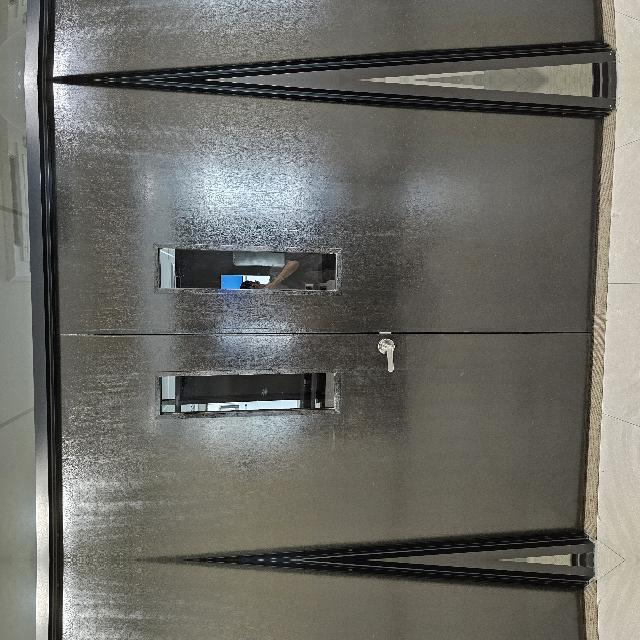door: (2, 109, 480, 640), (2, 431, 480, 640), (2, 0, 480, 51)
